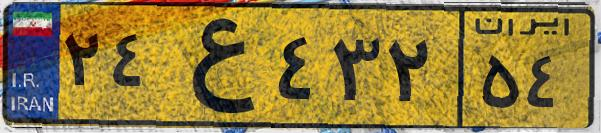2: (385, 28, 445, 110), (57, 26, 110, 100)
3: (330, 28, 385, 110)
4: (270, 28, 330, 110), (525, 38, 570, 115), (110, 28, 158, 98)
5: (475, 38, 525, 113)
ع: (158, 12, 270, 120)
